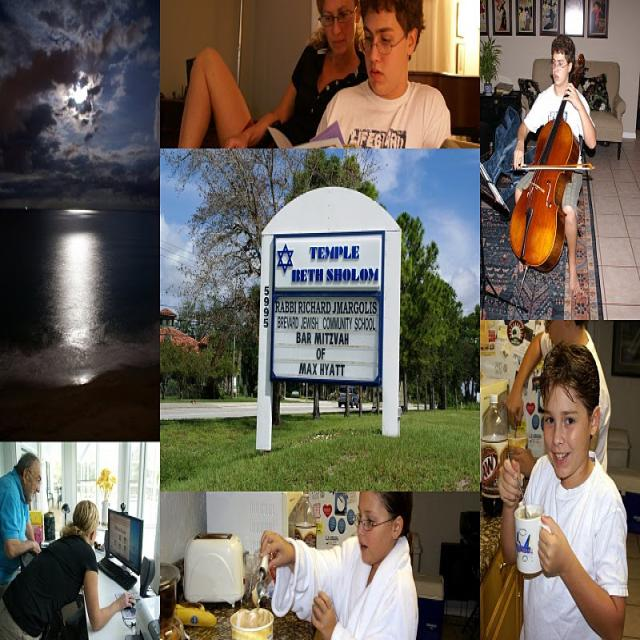cello: (508, 53, 590, 274)
